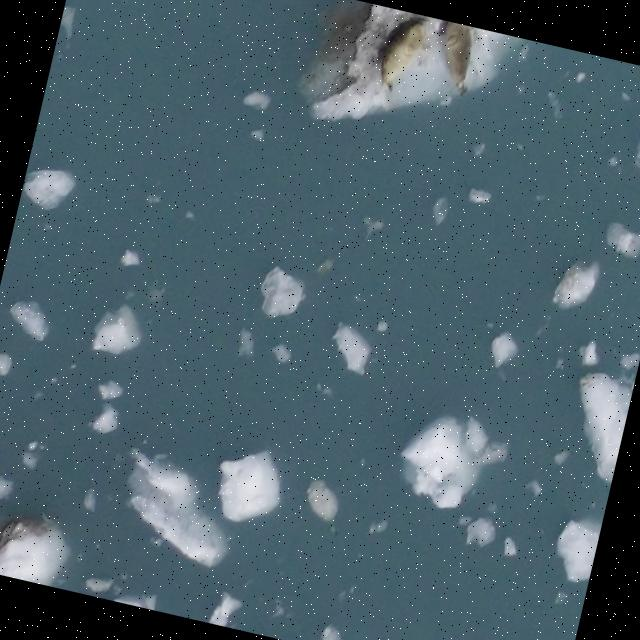seal: (361, 10, 439, 95), (427, 20, 478, 96)
